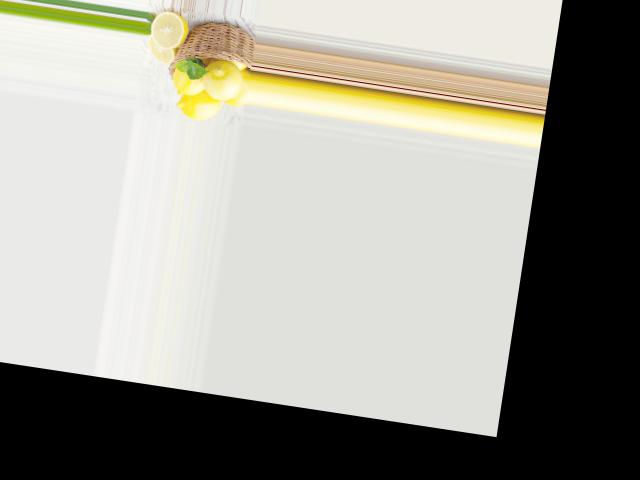lemon: (167, 56, 212, 99)
